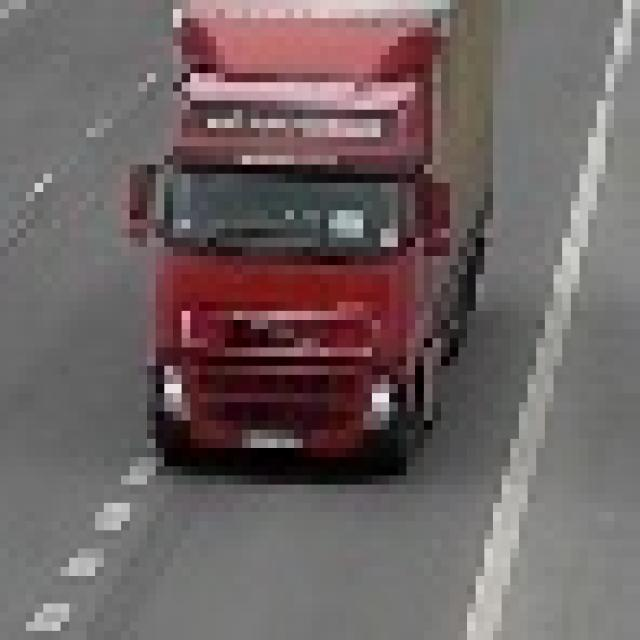TRUCK: (128, 0, 496, 475)
